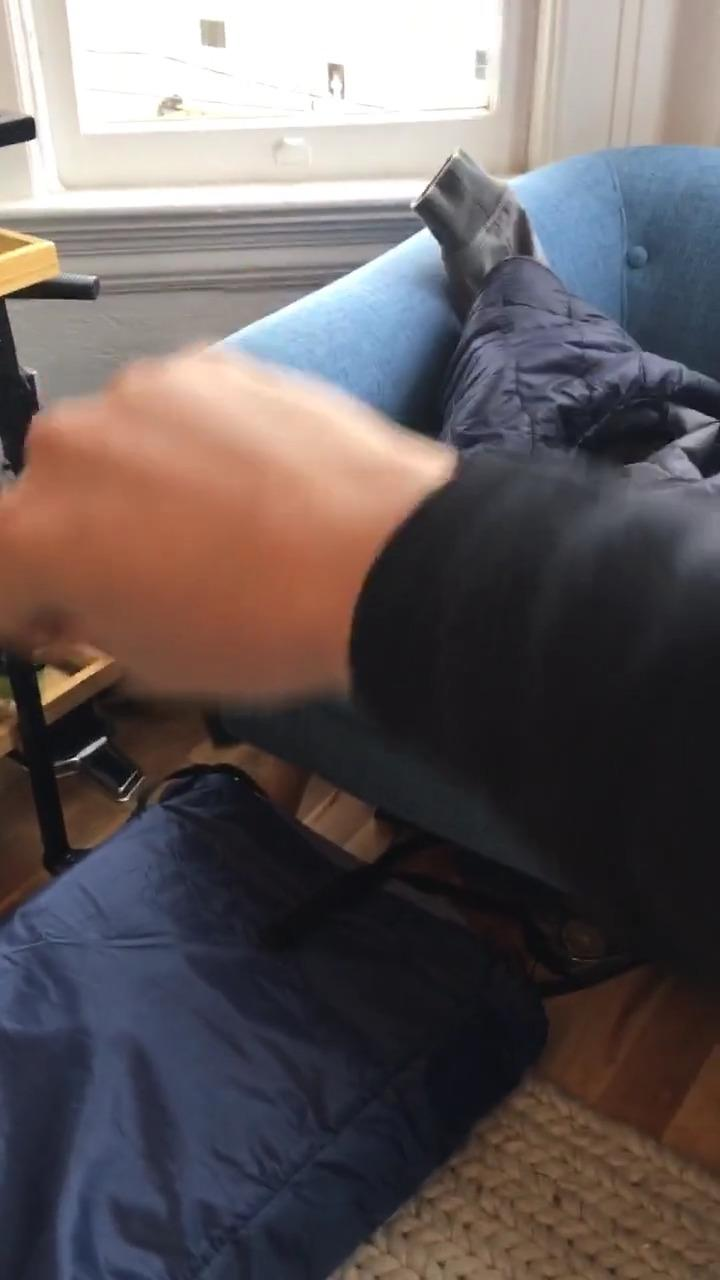Rock: (0, 346, 405, 711)
